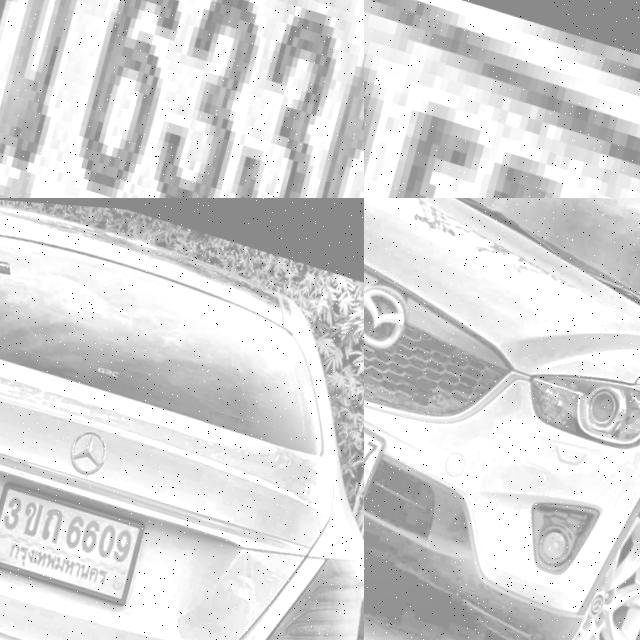license-plate: (0, 0, 364, 198), (364, 0, 640, 198), (0, 474, 147, 600), (364, 372, 399, 509)
